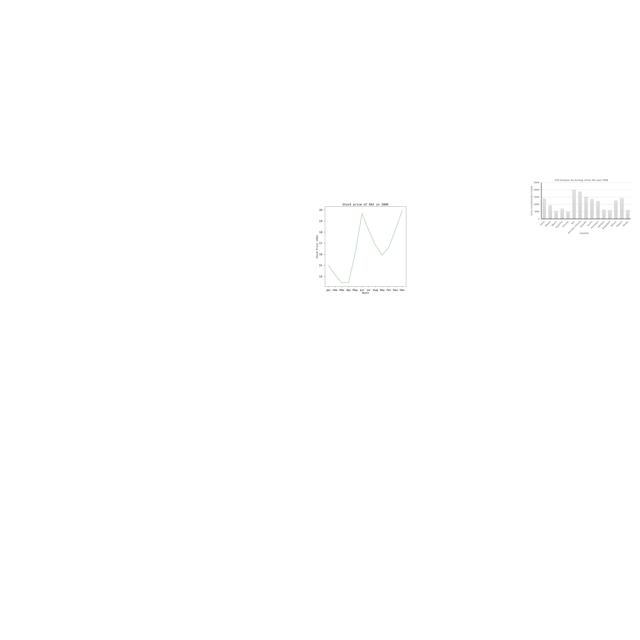Graph: (288, 194, 439, 298), (530, 178, 632, 235)
